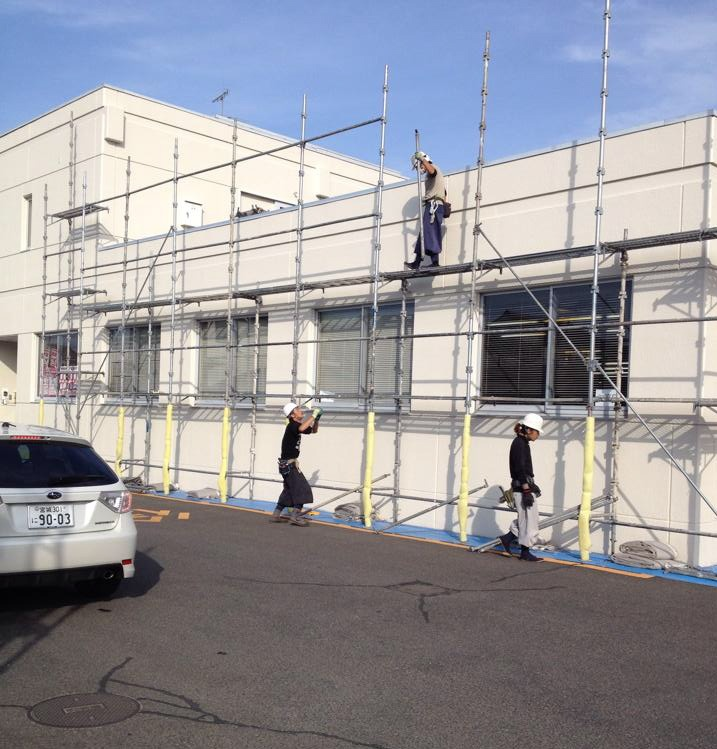white: (516, 411, 546, 445), (408, 148, 433, 174), (279, 398, 303, 423)
